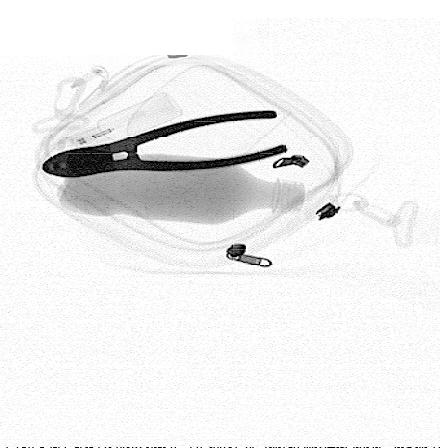Pliers: (37, 107, 293, 179)
